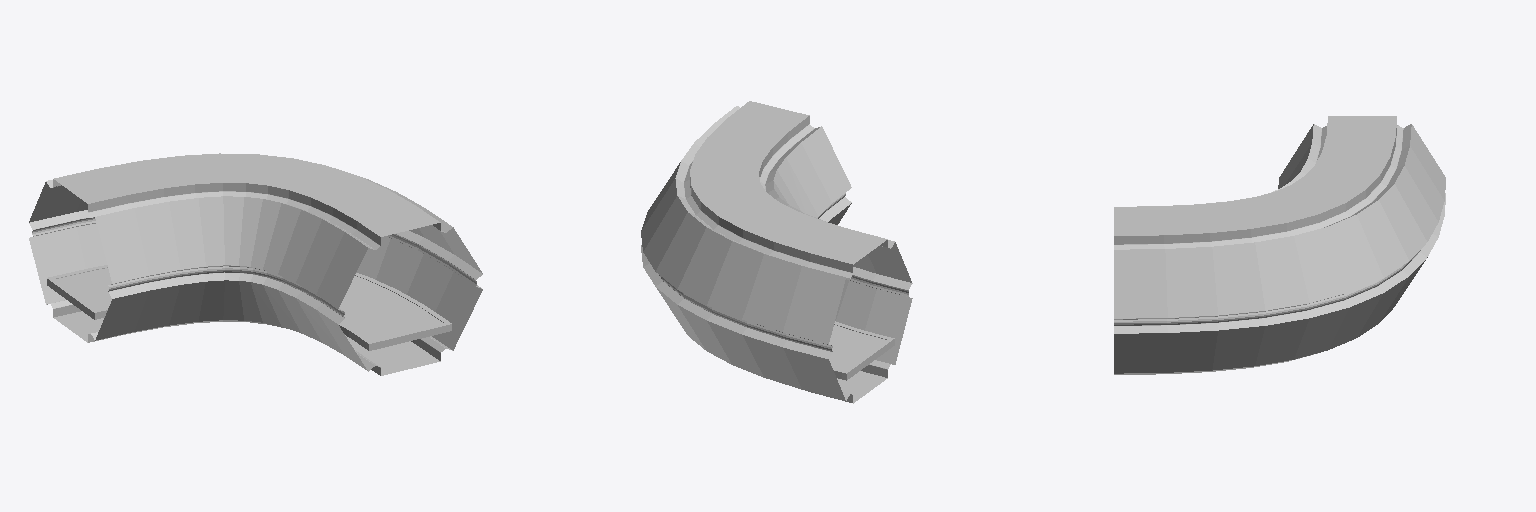
File: HallwayCorner.obj
3 renders of one model, left to right at view 1: azimuth 30°, elevation 25°; view 2: azimuth 150°, elevation 25°; view 3: azimuth 270°, elevation 25°, orthographic.
Parts seen in each view (by area): view 1: 2Way_Cube.084; view 2: 2Way_Cube.084; view 3: 2Way_Cube.084.
Boxes of the visible parts, <box> form: 2Way_Cube.084: <box>29,153,482,375</box>; 2Way_Cube.084: <box>641,101,912,403</box>; 2Way_Cube.084: <box>1114,116,1445,374</box>.
Size of the model in its own units: 34.74 by 16 by 34.74.